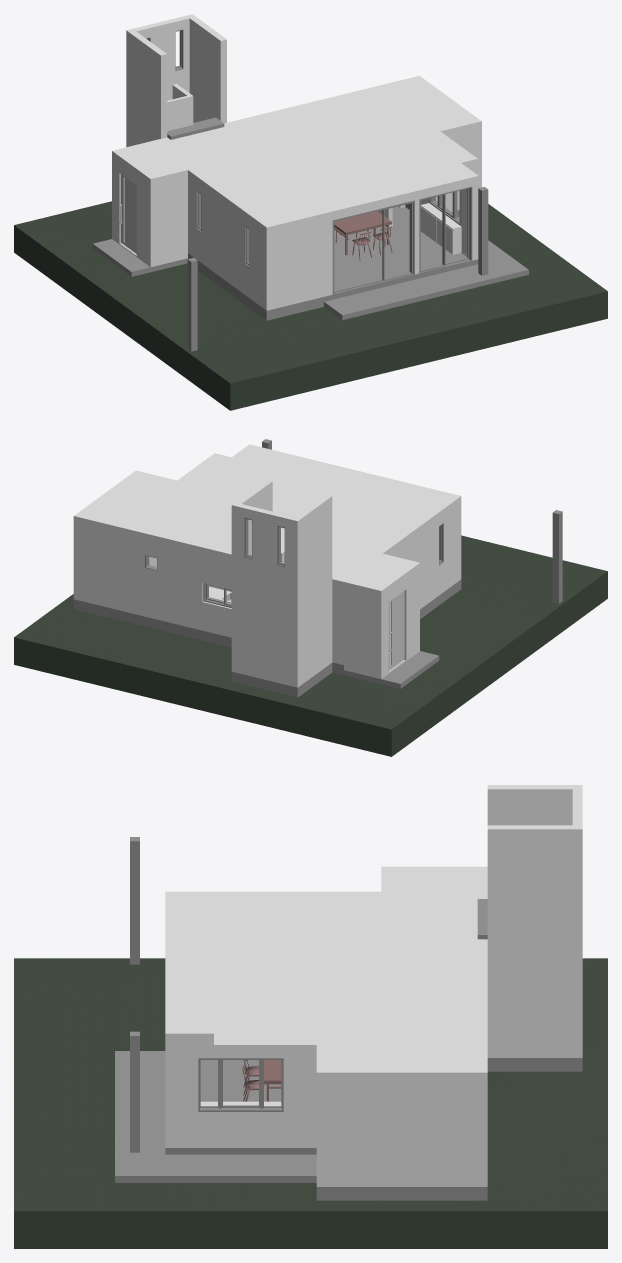
The model's file is house_1f_interior.glb.
3 views of the same model, one above another, from view 1: azimuth 30°, elevation 25°; view 2: azimuth 150°, elevation 25°; view 3: azimuth 270°, elevation 25° (orthographic). The views are drawn at different scales.
Visible parts, largest first — view 1: Object_6; view 2: Object_6; view 3: Object_6.
Boxes of the visible parts, x1,y1,x2,y2 form: Object_6: (14,14,607,410); Object_6: (14,439,607,756); Object_6: (14,785,607,1248).
Bounding box in the file's own units: 11.87 × 6.12 × 11.78.
1 material, 1 textured.
